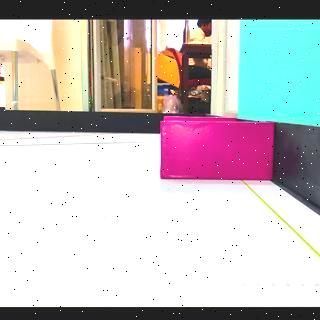xparking: (160, 122, 268, 180)
